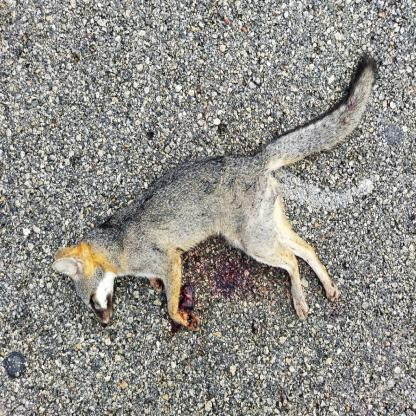zorro: (46, 49, 382, 335)
